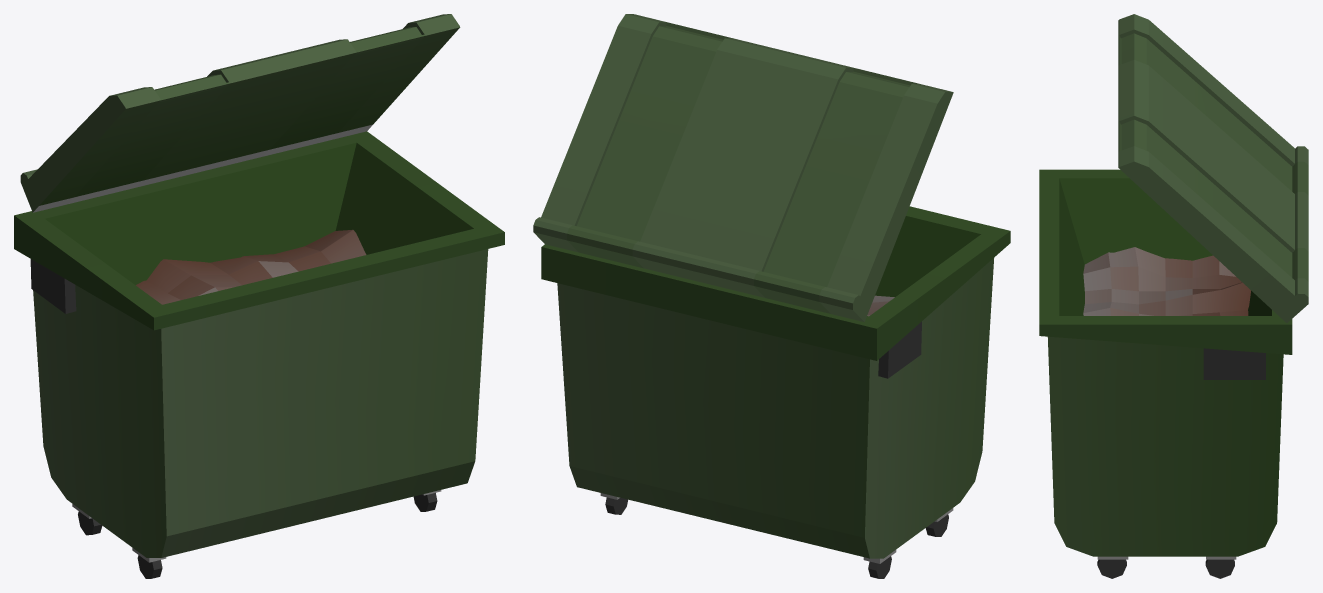
Rendered from B02_benne_ON.fbx.
3 views of the same model, side by side, from view 1: azimuth 30°, elevation 25°; view 2: azimuth 150°, elevation 25°; view 3: azimuth 270°, elevation 25° (orthographic). The views are drawn at different scales.
Visible parts, largest first — view 1: B02_benne_ON; view 2: B02_benne_ON; view 3: B02_benne_ON.
Boxes of the visible parts, x1=… form: B02_benne_ON: x1=14, y1=14, x2=504, y2=578; B02_benne_ON: x1=533, y1=14, x2=1010, y2=578; B02_benne_ON: x1=1039, y1=14, x2=1308, y2=578.
Bounding box in the file's own units: 260 × 339 × 191.
